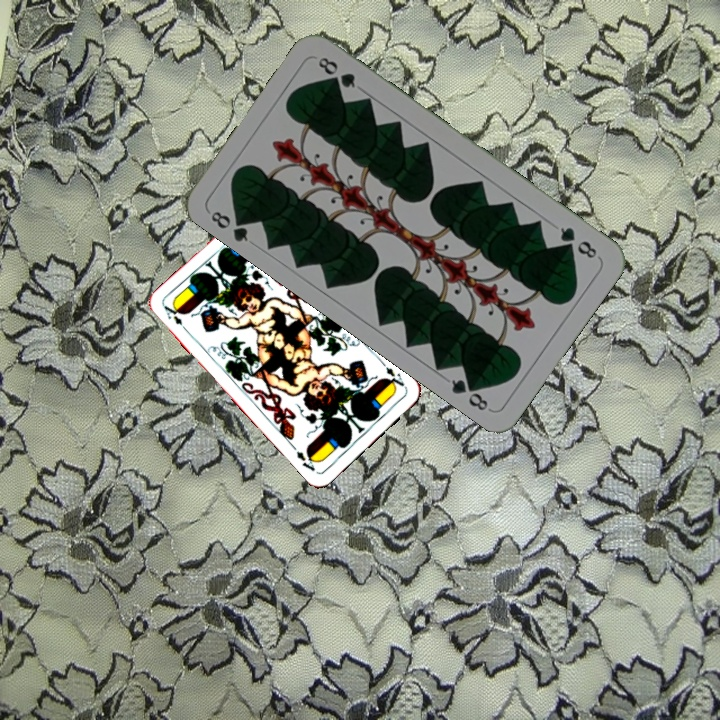EA: (381, 362, 407, 392), (160, 300, 185, 328)
G8: (206, 207, 253, 245), (556, 223, 600, 261)
